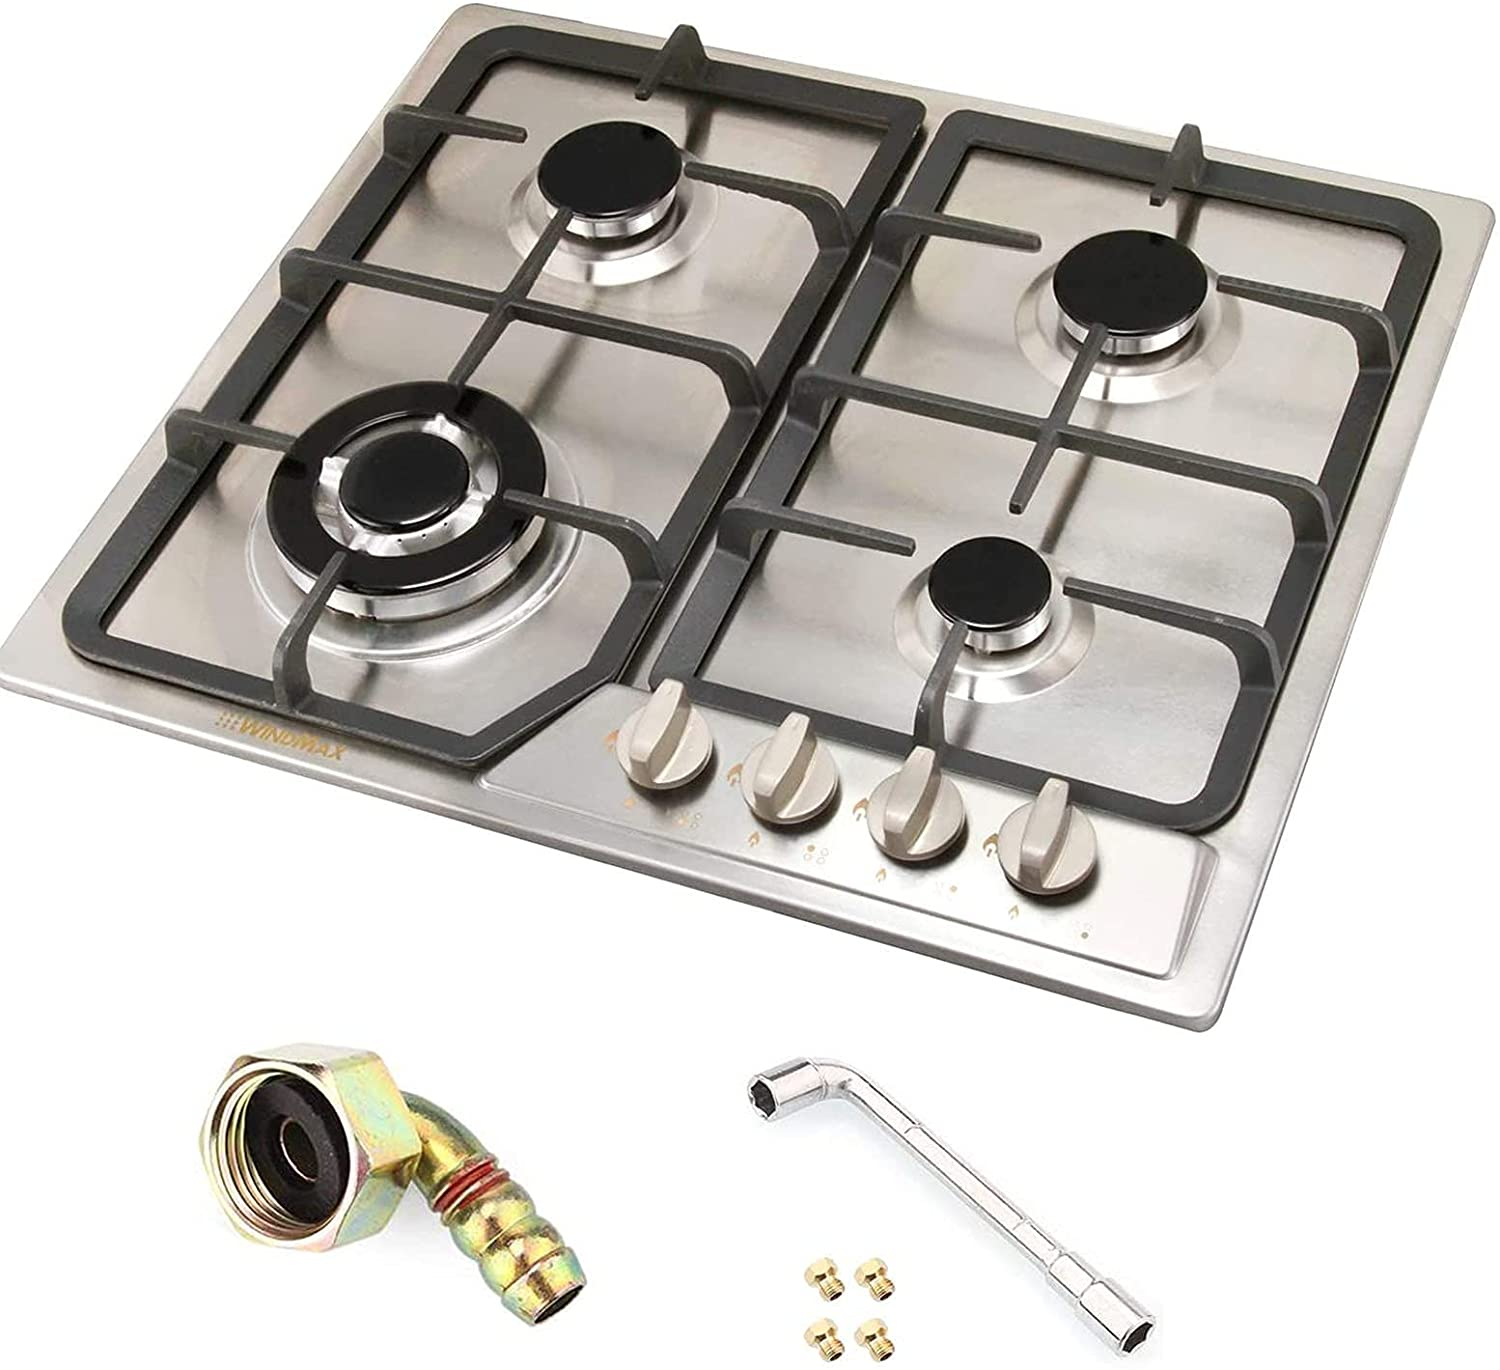stove: (1, 157, 1493, 896)
